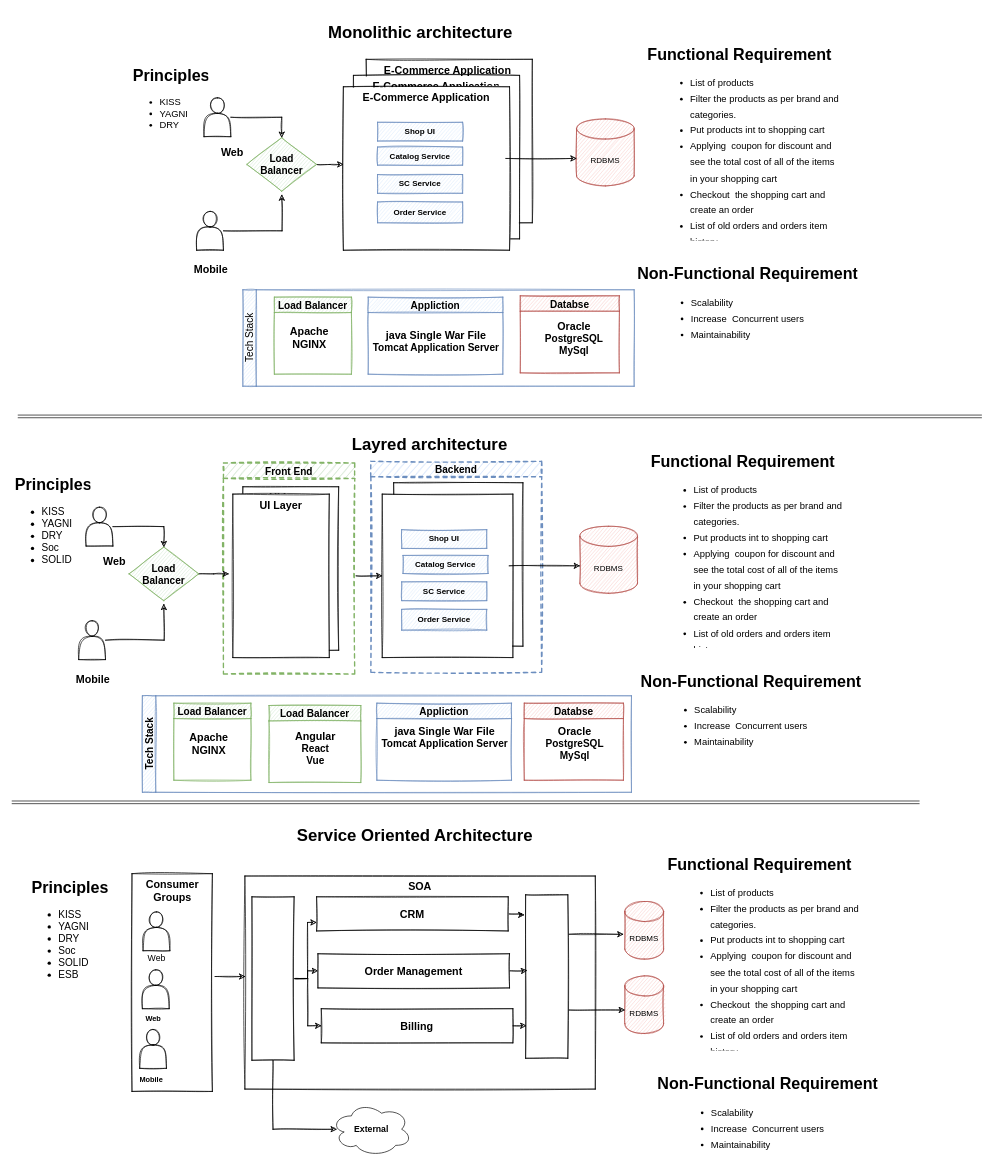
Image size: 994x1168. Some labels were removed from this diagram. The centre of each missing label's shape, as x and y in pixels:
"Backend Layer/Business Logi" belongs at [447,575].
"ESB" belongs at [272,978].
"Shared" belongs at [546,976].
